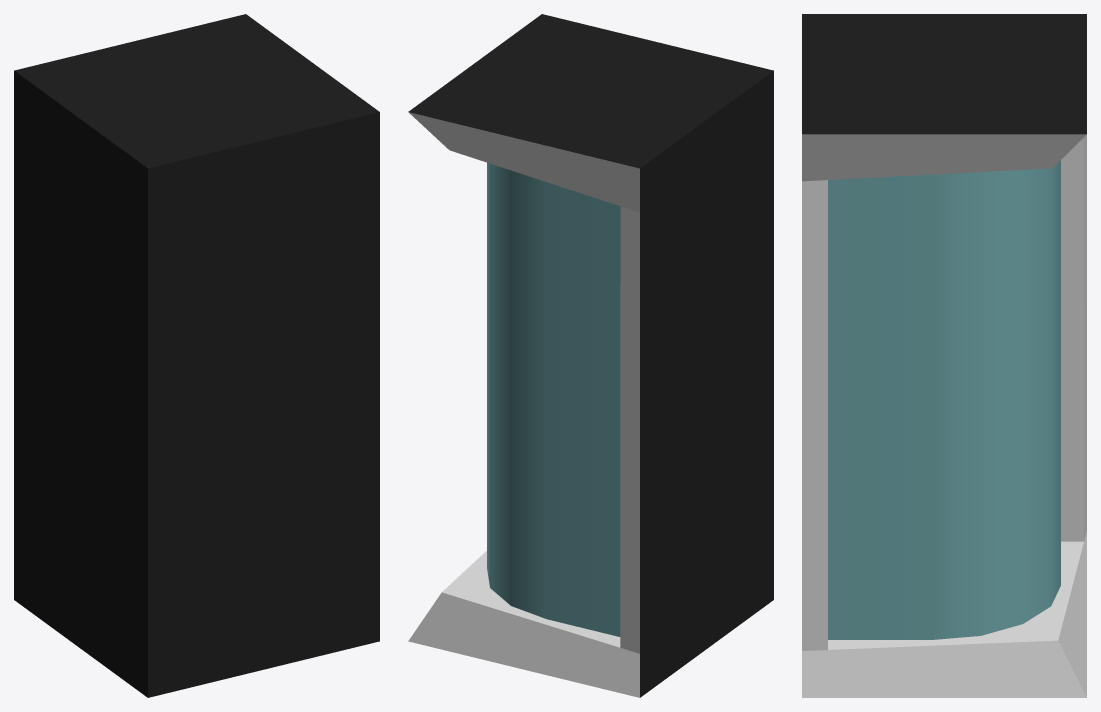
Rendered from Building_Corner.fbx.
3 views of the same model, side by side, from view 1: azimuth 30°, elevation 25°; view 2: azimuth 150°, elevation 25°; view 3: azimuth 270°, elevation 25° (orthographic). The views are drawn at different scales.
Parts seen in each view (by area): view 1: pCube20; view 2: pCube20; view 3: pCube20.
Boxes of the visible parts, bbox=[...] form: pCube20: bbox=[14, 14, 379, 697]; pCube20: bbox=[408, 14, 773, 697]; pCube20: bbox=[802, 14, 1086, 697].
Bounding box in the file's own units: 100 × 218 × 100.
